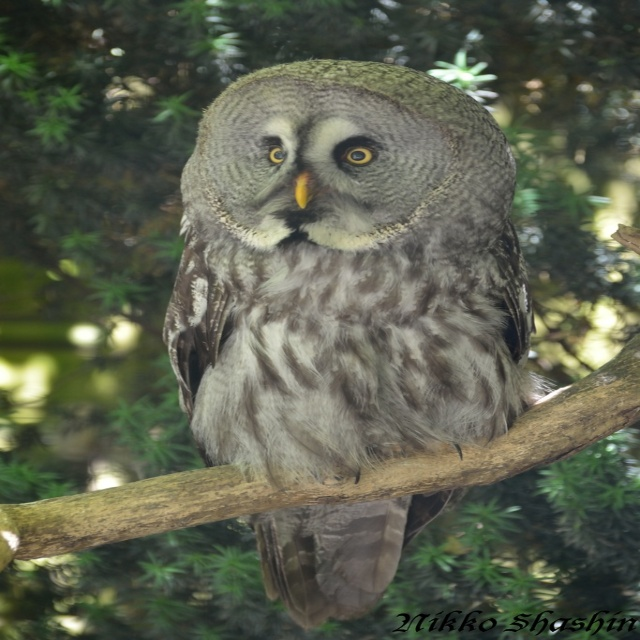Owl: (162, 55, 559, 630)
